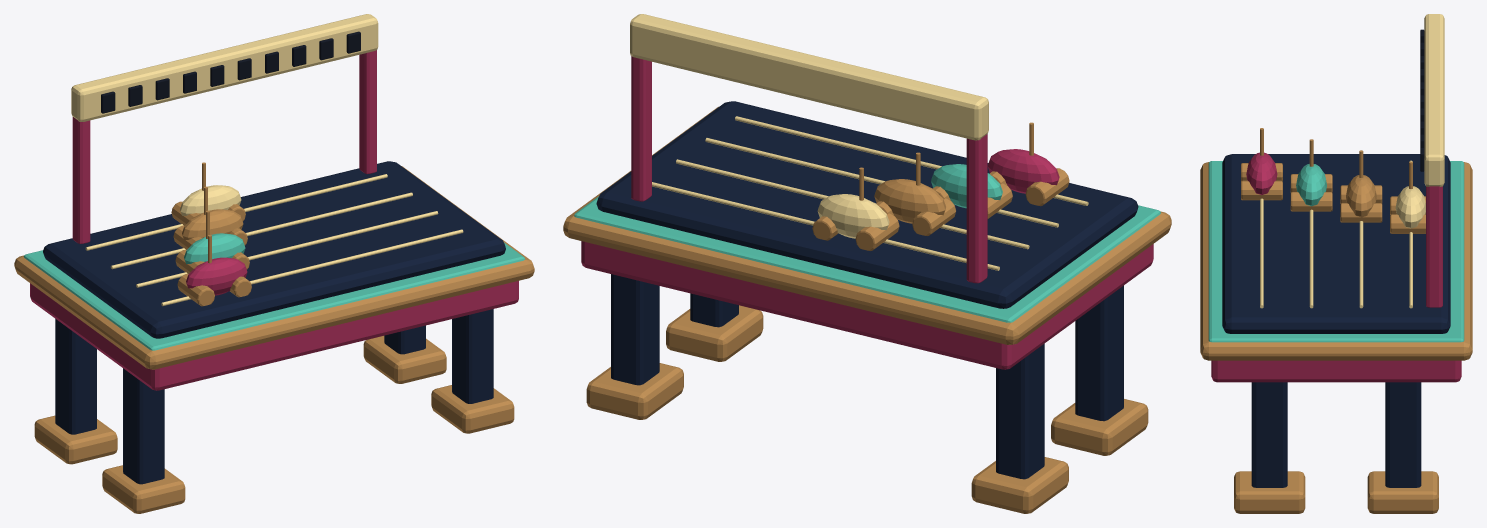
Rendered from MechanicalRace.fbx.
The picture shows the model from 3 angles, left to right: view 1: azimuth 30°, elevation 25°; view 2: azimuth 150°, elevation 25°; view 3: azimuth 270°, elevation 25°; orthographic projection. The views are drawn at different scales.
Visible parts, largest first — view 1: MechanicalRace.Mesh, MechanicalRace.Racer0.Mesh, MechanicalRace.Racer2.Mesh, MechanicalRace.Racer1.Mesh, MechanicalRace.Racer3.Mesh; view 2: MechanicalRace.Mesh, MechanicalRace.Racer3.Mesh, MechanicalRace.Racer0.Mesh, MechanicalRace.Racer2.Mesh, MechanicalRace.Racer1.Mesh; view 3: MechanicalRace.Mesh, MechanicalRace.Racer1.Mesh, MechanicalRace.Racer2.Mesh, MechanicalRace.Racer0.Mesh, MechanicalRace.Racer3.Mesh.
Boxes of the visible parts, x1,y1,x2,y2 form: MechanicalRace.Mesh: (14,14,534,513); MechanicalRace.Racer0.Mesh: (177,235,251,306); MechanicalRace.Racer2.Mesh: (173,186,247,249); MechanicalRace.Racer1.Mesh: (175,210,249,273); MechanicalRace.Racer3.Mesh: (171,162,245,225); MechanicalRace.Mesh: (563,14,1171,513); MechanicalRace.Racer3.Mesh: (812,167,899,250); MechanicalRace.Racer0.Mesh: (987,122,1069,206); MechanicalRace.Racer2.Mesh: (874,152,955,235); MechanicalRace.Racer1.Mesh: (931,164,1012,218); MechanicalRace.Mesh: (1200,14,1472,513); MechanicalRace.Racer1.Mesh: (1290,139,1332,211); MechanicalRace.Racer2.Mesh: (1340,150,1382,222); MechanicalRace.Racer0.Mesh: (1241,128,1282,200); MechanicalRace.Racer3.Mesh: (1390,161,1425,233).
Bounding box in the file's own units: 285 × 242 × 175.
